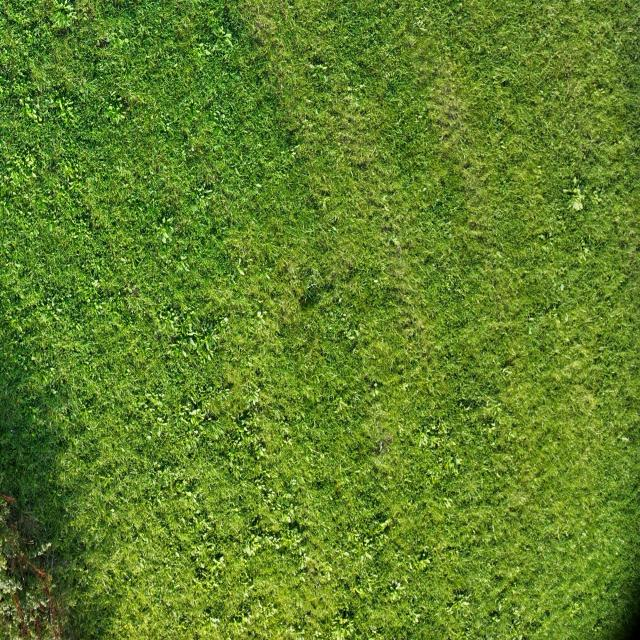rumex: (426, 314, 524, 448), (232, 430, 312, 558), (363, 514, 438, 626), (168, 84, 234, 174), (160, 305, 231, 382), (30, 280, 91, 349), (373, 8, 431, 72), (426, 83, 472, 150), (526, 284, 576, 341), (239, 2, 290, 55), (229, 404, 269, 459), (5, 142, 44, 195), (58, 156, 93, 208), (140, 387, 175, 433), (205, 19, 238, 60), (4, 1, 42, 35), (181, 402, 213, 440), (446, 590, 473, 625), (49, 0, 77, 29), (570, 234, 592, 266), (208, 105, 230, 136), (104, 34, 130, 59), (564, 184, 586, 212), (252, 306, 270, 339), (243, 532, 264, 558), (419, 432, 444, 452), (202, 422, 226, 442), (1, 577, 23, 597), (104, 103, 124, 124), (344, 90, 362, 108), (24, 102, 38, 122), (37, 541, 53, 558), (237, 408, 254, 424), (158, 226, 172, 244), (27, 594, 41, 611), (590, 189, 603, 207), (67, 165, 81, 181), (352, 584, 367, 598), (219, 28, 232, 44), (495, 74, 512, 86), (413, 18, 426, 32), (322, 20, 336, 33), (236, 259, 246, 277), (445, 458, 455, 475), (344, 330, 358, 342), (1, 604, 13, 618), (302, 267, 314, 281), (389, 235, 401, 248), (442, 497, 454, 510), (419, 546, 430, 560), (613, 37, 623, 52), (36, 598, 48, 610), (127, 94, 138, 107), (243, 543, 254, 556), (62, 2, 74, 13), (63, 162, 73, 175), (312, 63, 326, 72), (209, 615, 220, 626), (14, 324, 24, 336), (363, 550, 373, 562), (308, 280, 320, 290), (56, 99, 65, 112), (188, 338, 197, 351), (368, 380, 378, 391), (26, 156, 35, 168), (190, 203, 199, 215), (382, 70, 392, 80), (422, 556, 432, 566), (614, 140, 626, 148), (40, 312, 48, 324), (186, 330, 198, 338), (401, 382, 410, 392), (145, 392, 156, 400), (63, 114, 70, 126), (281, 147, 290, 156), (541, 245, 550, 254), (161, 216, 169, 226), (502, 367, 512, 375), (288, 266, 296, 276), (29, 412, 36, 423), (256, 311, 264, 320), (291, 144, 300, 152), (539, 233, 547, 242), (109, 89, 117, 98), (92, 279, 100, 288), (158, 164, 166, 173), (204, 48, 212, 57), (454, 457, 462, 466), (212, 118, 219, 128), (222, 317, 229, 327), (527, 326, 534, 336), (182, 348, 188, 359), (613, 216, 621, 224), (528, 317, 536, 325), (332, 215, 339, 224), (322, 74, 328, 84), (562, 188, 572, 194), (497, 602, 502, 614), (559, 282, 565, 292), (620, 436, 630, 442), (500, 144, 508, 151), (544, 232, 550, 241), (538, 89, 545, 96), (372, 278, 379, 285), (165, 123, 171, 131), (492, 76, 500, 82), (146, 434, 152, 442), (572, 176, 578, 184), (548, 10, 554, 18), (47, 476, 53, 483), (536, 166, 542, 172), (51, 388, 57, 394), (30, 432, 36, 438)
